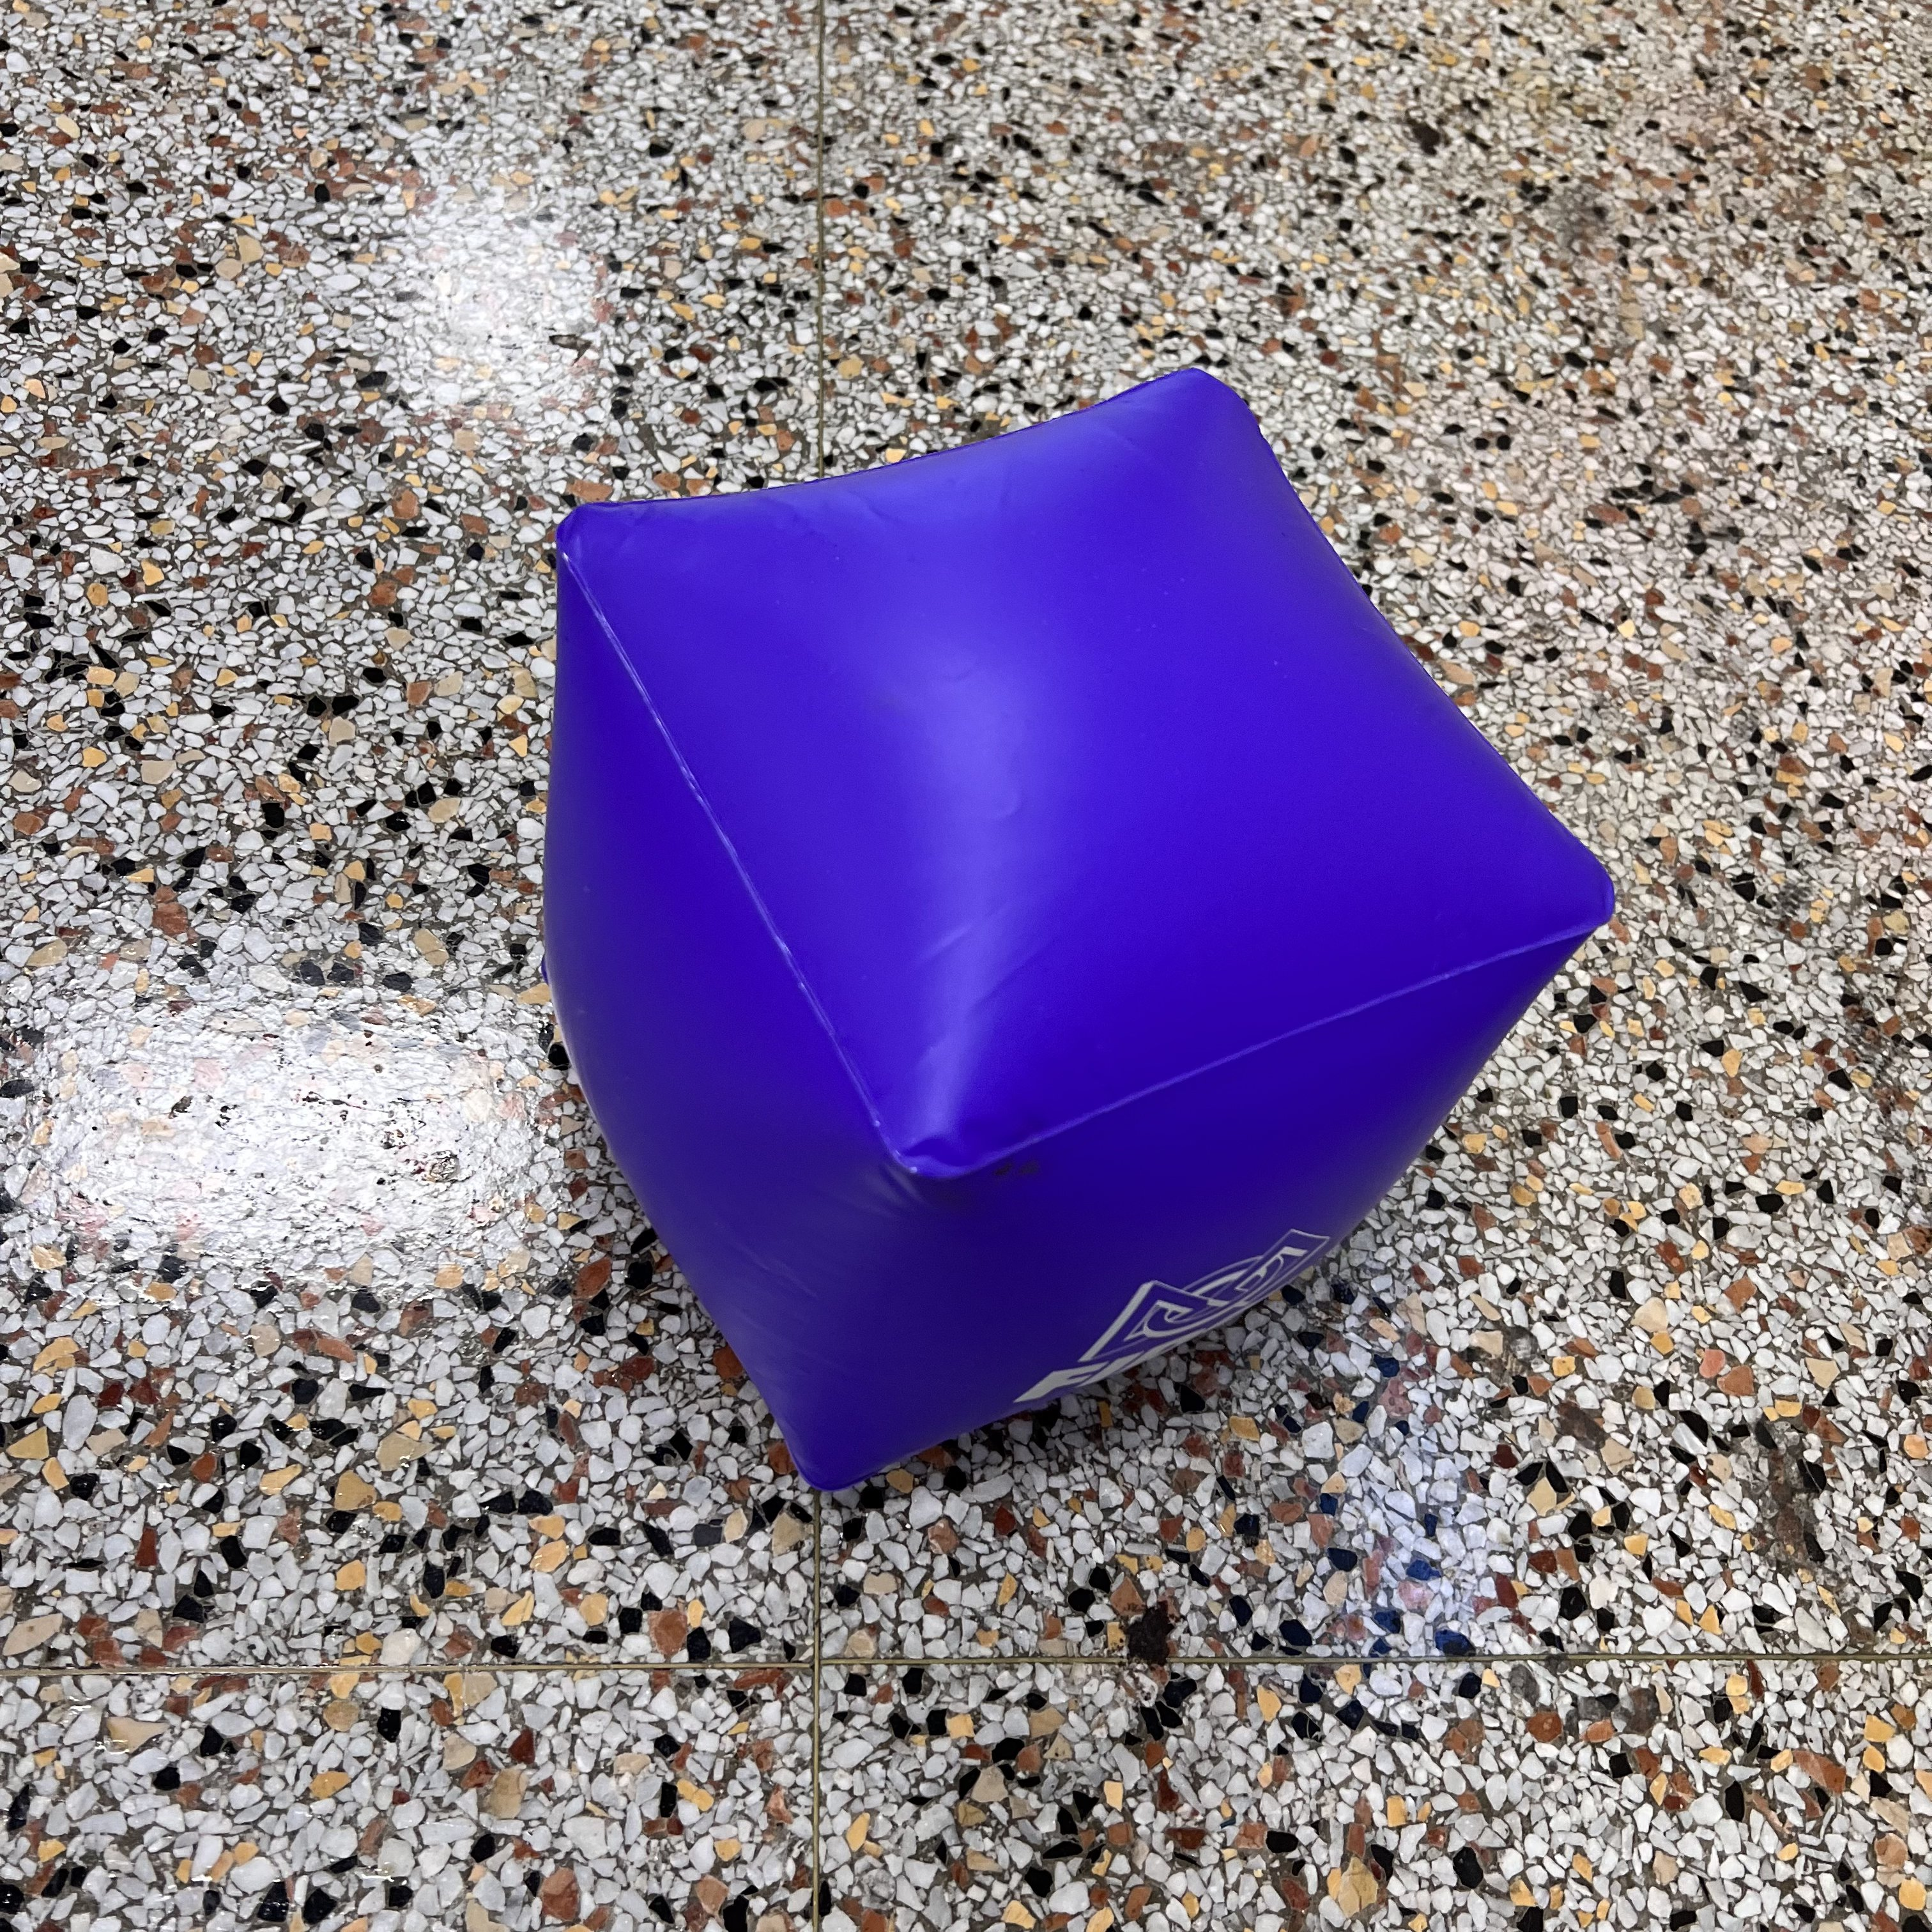cube: (540, 370, 1615, 1493)
